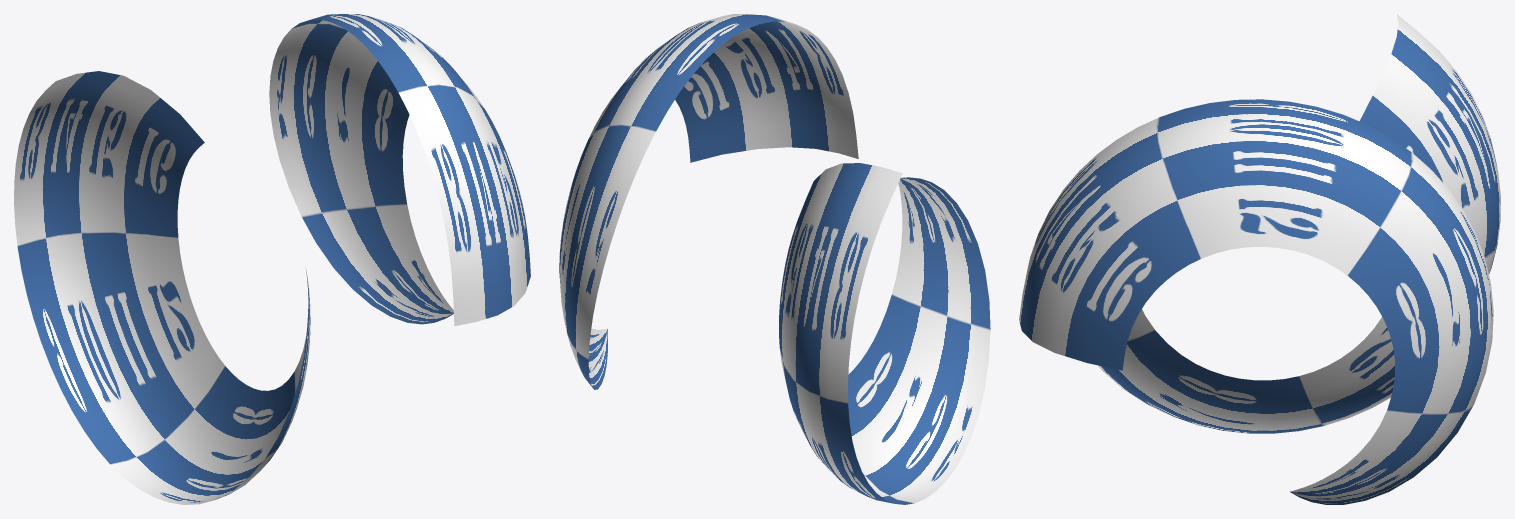
Rendered from Enmu_Wind6.fbx.
3 views of the same model, side by side, from view 1: azimuth 30°, elevation 25°; view 2: azimuth 150°, elevation 25°; view 3: azimuth 270°, elevation 25° (orthographic). The views are drawn at different scales.
Parts seen in each view (by area): view 1: SM_e_Plc_P1011_Wind007; view 2: SM_e_Plc_P1011_Wind007; view 3: SM_e_Plc_P1011_Wind007.
Boxes of the visible parts, left/top/right/bottom form: SM_e_Plc_P1011_Wind007: left=14, top=14, right=530, bottom=504; SM_e_Plc_P1011_Wind007: left=559, top=14, right=990, bottom=504; SM_e_Plc_P1011_Wind007: left=1019, top=14, right=1500, bottom=504.
Size of the model in its own units: 105 by 117 by 118.
